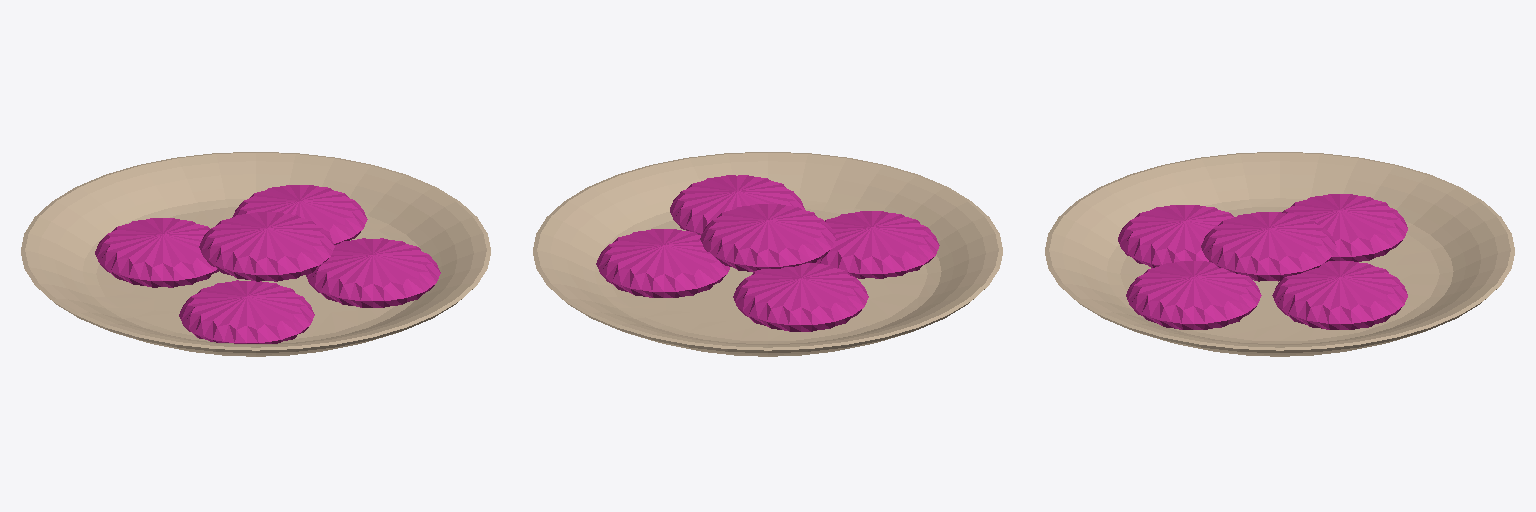
File: carabikang.obj
The picture shows the model from 3 angles: view 1: azimuth 30°, elevation 25°; view 2: azimuth 150°, elevation 25°; view 3: azimuth 270°, elevation 25°; orthographic projection.
Parts seen in each view (by area): view 1: Cylinder, Cylinder.009_Cylinder.012, Cylinder.005_Cylinder.006, Cylinder.007_Cylinder.008, Cylinder.001_Cylinder.002, Cylinder.003_Cylinder.004; view 2: Cylinder, Cylinder.001_Cylinder.002, Cylinder.009_Cylinder.012, Cylinder.003_Cylinder.004, Cylinder.007_Cylinder.008, Cylinder.005_Cylinder.006; view 3: Cylinder, Cylinder.005_Cylinder.006, Cylinder.003_Cylinder.004, Cylinder.009_Cylinder.012, Cylinder.001_Cylinder.002, Cylinder.007_Cylinder.008.
Boxes of the visible parts, x1,y1,x2,y2 form: Cylinder: [21, 152, 490, 356]; Cylinder.009_Cylinder.012: [199, 212, 334, 281]; Cylinder.005_Cylinder.006: [306, 238, 440, 307]; Cylinder.007_Cylinder.008: [179, 280, 314, 343]; Cylinder.001_Cylinder.002: [95, 218, 218, 287]; Cylinder.003_Cylinder.004: [232, 185, 367, 244]; Cylinder: [533, 152, 1002, 356]; Cylinder.001_Cylinder.002: [733, 263, 868, 331]; Cylinder.009_Cylinder.012: [700, 204, 835, 272]; Cylinder.003_Cylinder.004: [596, 229, 729, 297]; Cylinder.007_Cylinder.008: [816, 211, 939, 278]; Cylinder.005_Cylinder.006: [670, 175, 804, 234]; Cylinder: [1045, 152, 1514, 356]; Cylinder.005_Cylinder.006: [1126, 261, 1261, 329]; Cylinder.003_Cylinder.004: [1272, 261, 1407, 329]; Cylinder.009_Cylinder.012: [1201, 212, 1336, 281]; Cylinder.001_Cylinder.002: [1282, 194, 1407, 261]; Cylinder.007_Cylinder.008: [1118, 205, 1234, 267].
Size of the model in its own units: 2.31 by 0.3307 by 2.31.